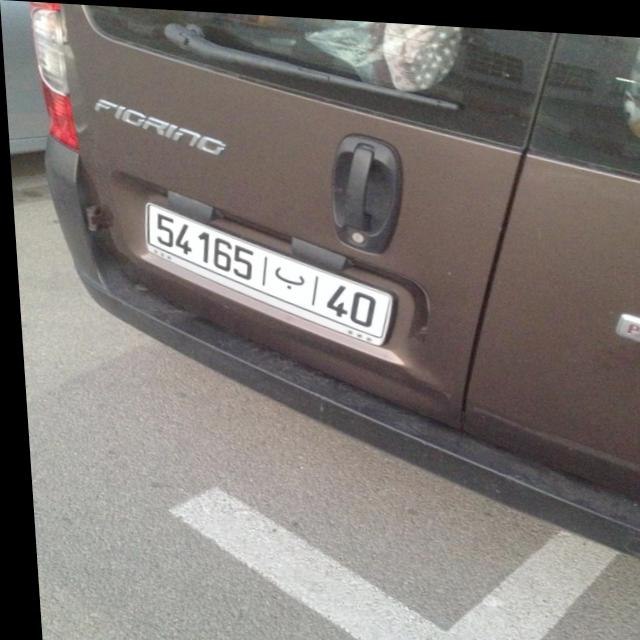License-Plate: (144, 201, 390, 341)
